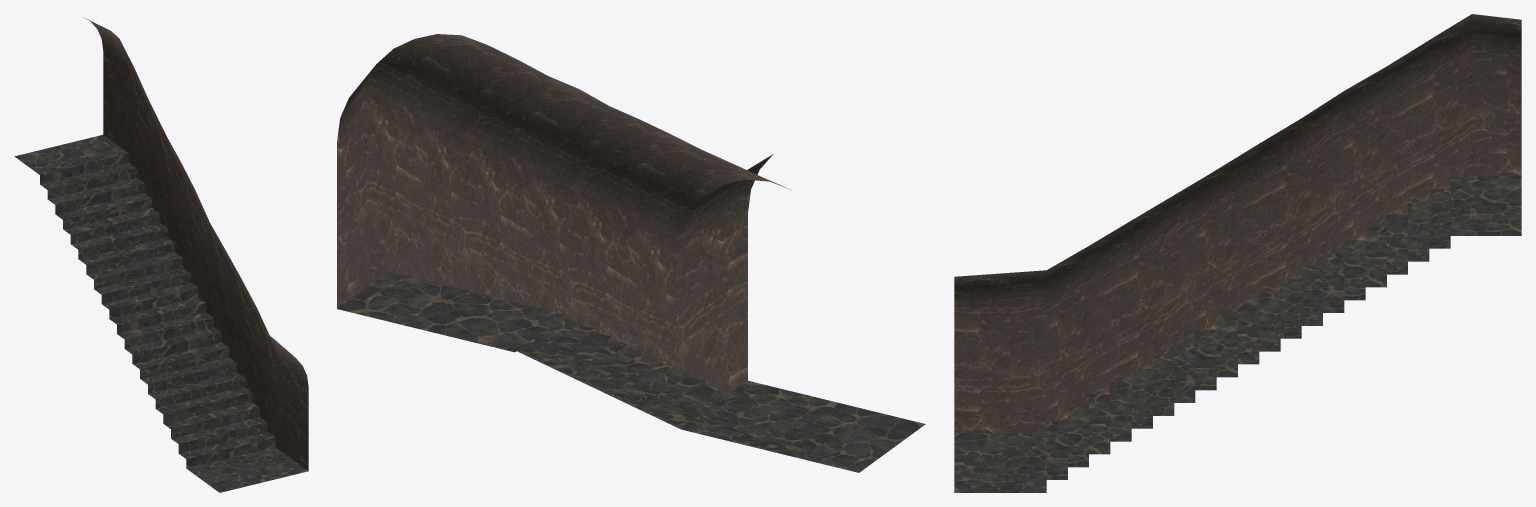
The model's file is hall-stairs-down.gltf.
3 renders of one model, left to right at view 1: azimuth 30°, elevation 25°; view 2: azimuth 150°, elevation 25°; view 3: azimuth 270°, elevation 25°, orthographic. The views are drawn at different scales.
Parts seen in each view (by area): view 1: hall-stairs-down-mesh; view 2: hall-stairs-down-mesh; view 3: hall-stairs-down-mesh.
Part boxes in pixels (x1,y1,x2,y2): hall-stairs-down-mesh: (14, 17, 308, 492); hall-stairs-down-mesh: (337, 34, 925, 472); hall-stairs-down-mesh: (954, 14, 1521, 492).
Bounding box in the file's own units: 2.21 × 6.89 × 8.
2 materials, 2 textured.
